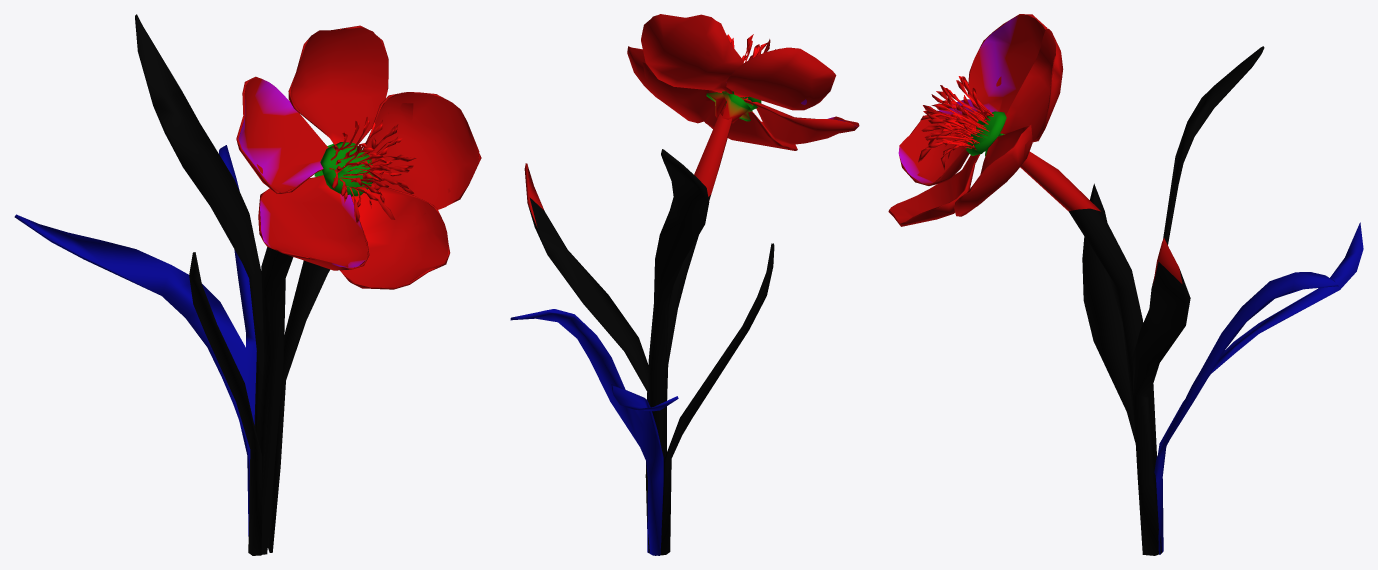
File: flower_04_sunflower.glb
The picture shows the model from 3 angles, left to right: view 1: azimuth 30°, elevation 25°; view 2: azimuth 150°, elevation 25°; view 3: azimuth 270°, elevation 25°; orthographic projection. The views are drawn at different scales.
Parts seen in each view (by area): view 1: Flower_Petals, Flower_Leaves, Flower_Stem; view 2: Flower_Leaves, Flower_Petals, Flower_Stem; view 3: Flower_Petals, Flower_Leaves, Flower_Stem.
Boxes of the visible parts, left/top/right/bottom form: Flower_Petals: left=236, top=25, right=481, bottom=289; Flower_Leaves: left=14, top=14, right=372, bottom=555; Flower_Stem: left=258, top=247, right=293, bottom=554; Flower_Leaves: left=510, top=149, right=774, bottom=555; Flower_Petals: left=524, top=14, right=859, bottom=227; Flower_Stem: left=664, top=195, right=710, bottom=457; Flower_Petals: left=888, top=14, right=1182, bottom=284; Flower_Leaves: left=1082, top=46, right=1363, bottom=555; Flower_Stem: left=1068, top=208, right=1143, bottom=429.
Size of the model in its own units: 0.6828 by 1.32 by 1.09.
